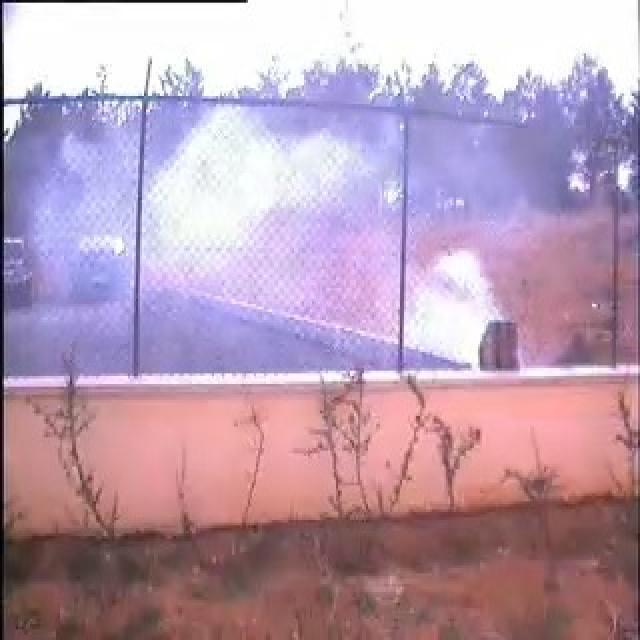Smoke: (125, 111, 506, 368)
